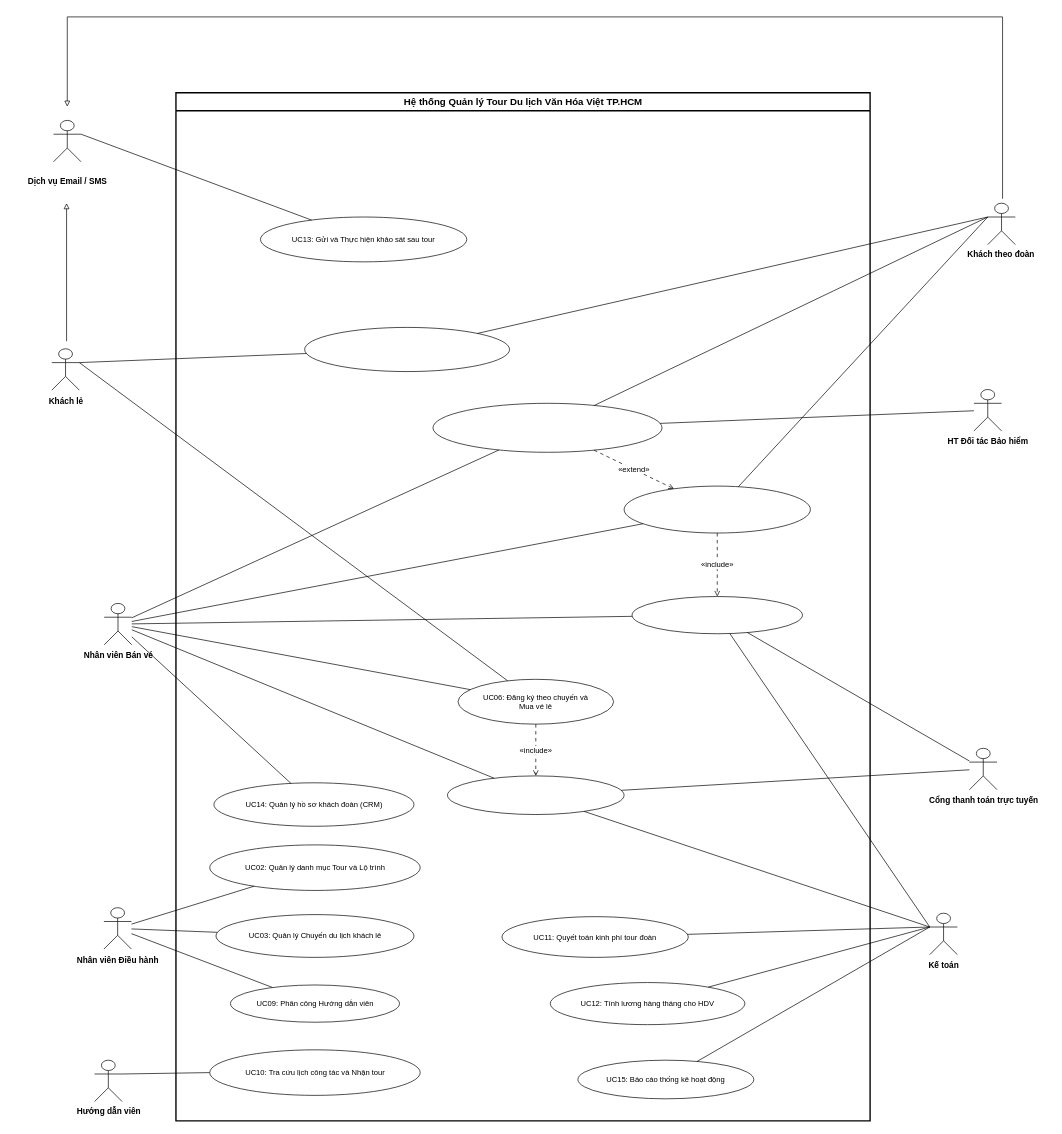
The diagram is 1062 pixels wide and 1134 high, and some of its shapes have lost their labels. The shapes that lost their labels are listed below. From the top down, each one's centre as x and y in pixels, then its label:
At point (407, 349): "UC01: Tra cứu thông tin tour và Lộ trình".
At point (547, 427): "UC05: Đăng ký bảo hiểm và Cung cấp DS đoàn".
At point (716, 509): "UC04: Đăng ký tour theo đoàn (>= 12 người)".
At point (716, 615): "UC07: Thu tiền đặt cọc tour đoàn".
At point (535, 795): "UC08: Thanh toán tiền vé khách lẻ".
